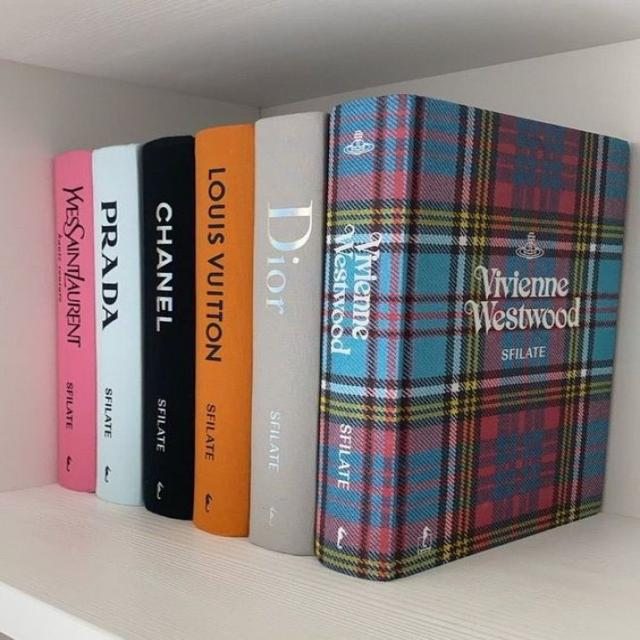book: (332, 107, 416, 574), (249, 112, 325, 555), (193, 126, 253, 536), (138, 136, 194, 519), (93, 146, 141, 504), (54, 151, 95, 492)
